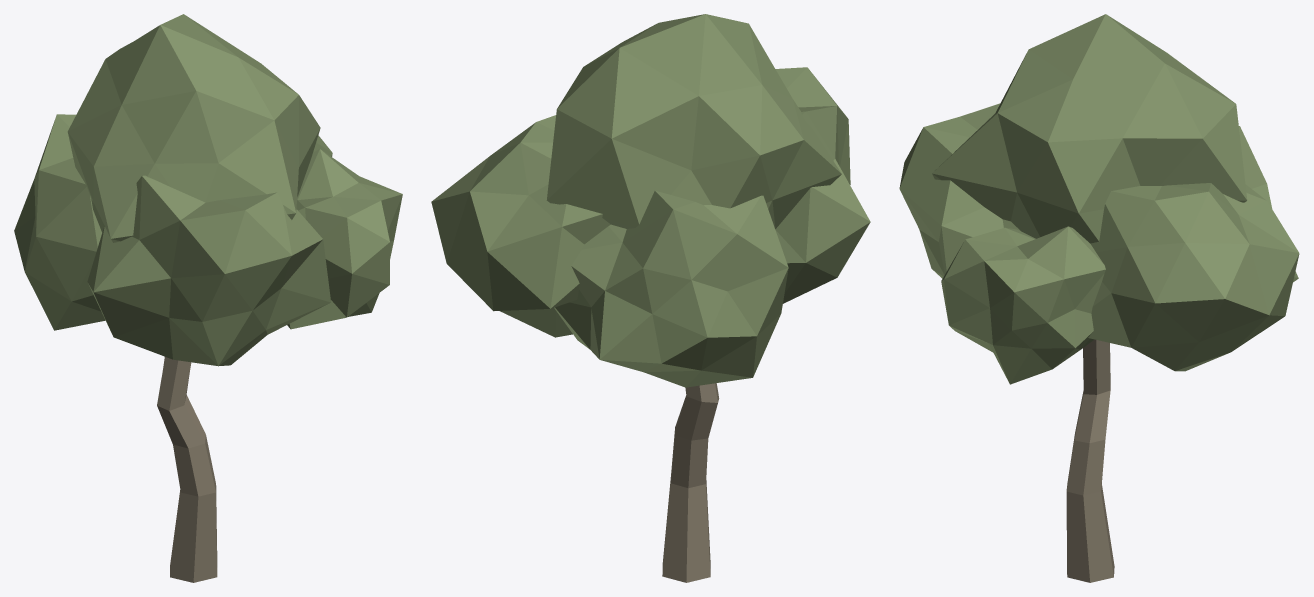
Rendered from tree_2.fbx.
The picture shows the model from 3 angles, left to right: view 1: azimuth 30°, elevation 25°; view 2: azimuth 150°, elevation 25°; view 3: azimuth 270°, elevation 25°; orthographic projection. The views are drawn at different scales.
Parts seen in each view (by area): view 1: pPlatonic7; view 2: pPlatonic7; view 3: pPlatonic7.
Part boxes in pixels (x1,y1,x2,y2): pPlatonic7: (14, 14, 402, 582); pPlatonic7: (431, 14, 870, 582); pPlatonic7: (899, 14, 1299, 582).
Bounding box in the file's own units: 5.99 × 9.89 × 6.57.
